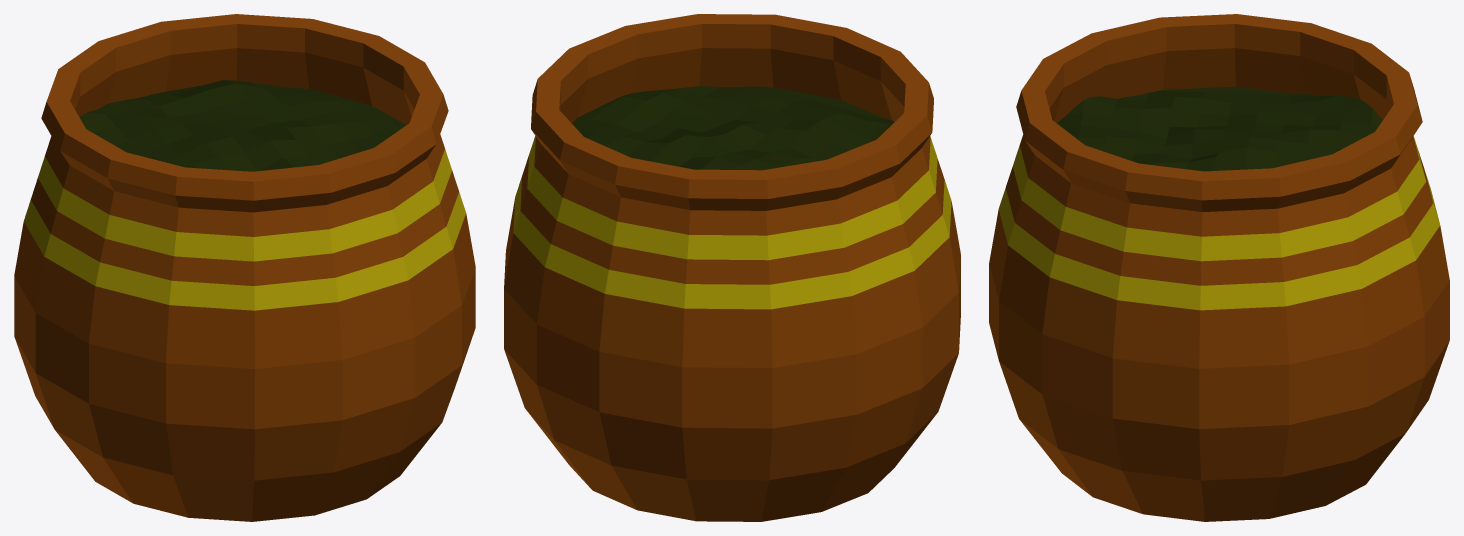
Rendered from potB.glb.
3 views of the same model, side by side, from view 1: azimuth 30°, elevation 25°; view 2: azimuth 150°, elevation 25°; view 3: azimuth 270°, elevation 25° (orthographic).
Visible parts, largest first — view 1: pot.002, dirt; view 2: pot.002, dirt; view 3: pot.002, dirt.
Part boxes in pixels (left/top/right/bottom): pot.002: left=14, top=14, right=475, bottom=521; dirt: left=79, top=80, right=406, bottom=171; pot.002: left=504, top=14, right=960, bottom=521; dirt: left=572, top=86, right=894, bottom=170; pot.002: left=989, top=14, right=1449, bottom=521; dirt: left=1057, top=86, right=1382, bottom=171.
Size of the model in its own units: 1.6 by 1.36 by 1.6.
